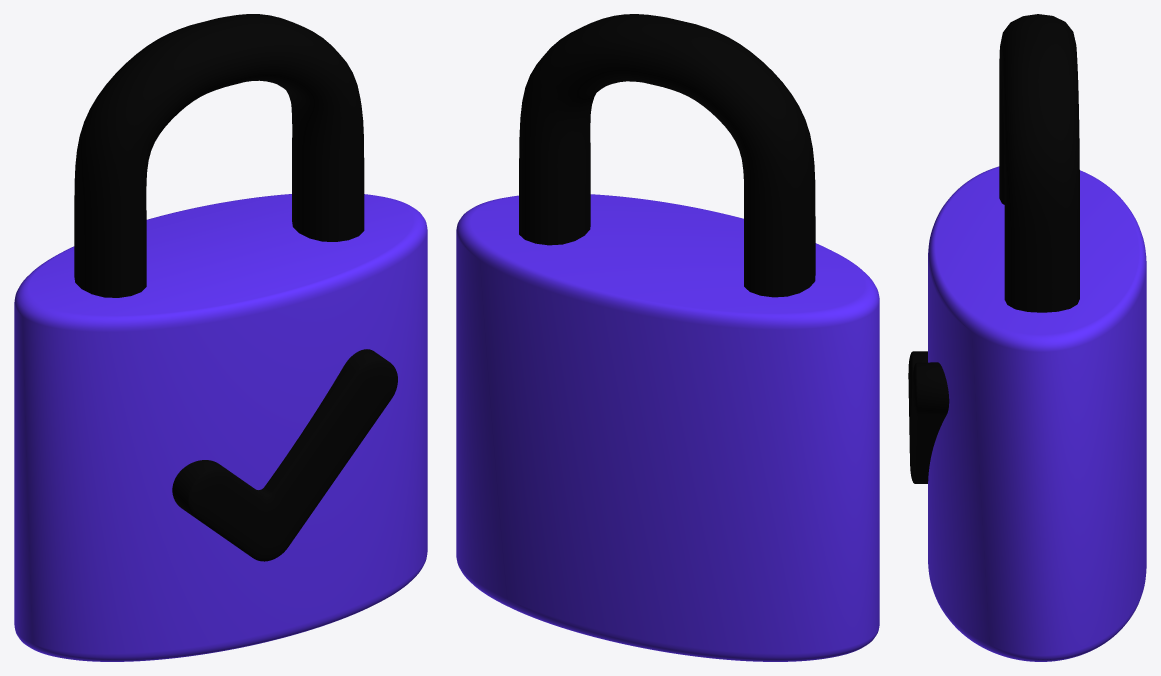
File: lock.glb
3 renders of one model, left to right at view 1: azimuth 30°, elevation 25°; view 2: azimuth 150°, elevation 25°; view 3: azimuth 270°, elevation 25°, orthographic. The views are drawn at different scales.
Parts seen in each view (by area): view 1: Cylinder, Vert, Curve; view 2: Cylinder, Vert; view 3: Cylinder, Vert, Curve.
Boxes of the visible parts, x1,y1,x2,y2 form: Cylinder: (14,194,427,661); Vert: (74,14,364,297); Curve: (172,349,397,561); Cylinder: (456,194,879,661); Vert: (519,14,815,297); Cylinder: (928,166,1146,661); Vert: (999,14,1079,312); Curve: (908,351,949,483).
Bounding box in the file's own units: 21.49 × 29.49 × 11.73.
